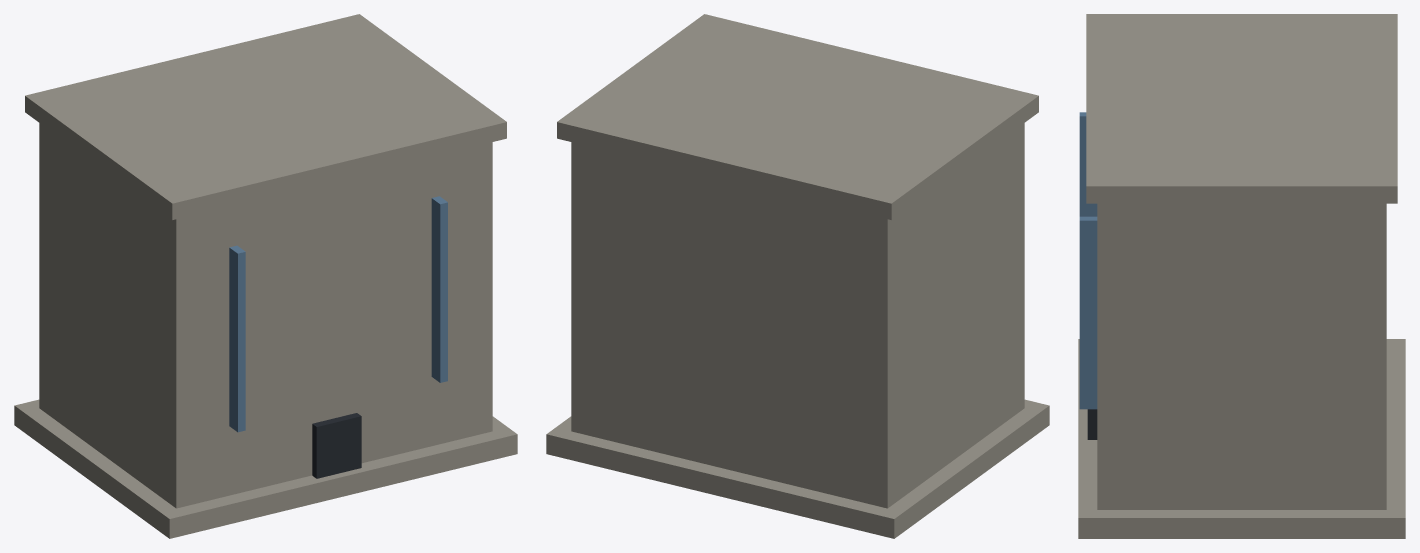
File: bld_residential_a06_lod1.glb
The picture shows the model from 3 angles, left to right: view 1: azimuth 30°, elevation 25°; view 2: azimuth 150°, elevation 25°; view 3: azimuth 270°, elevation 25°; orthographic projection. The views are drawn at different scales.
Parts seen in each view (by area): view 1: body; view 2: body; view 3: body.
Part boxes in pixels (x1,y1,x2,y2): body: (14, 14, 517, 538); body: (546, 14, 1049, 538); body: (1078, 14, 1405, 538).
Size of the model in its own units: 6.6 by 6 by 5.1.
